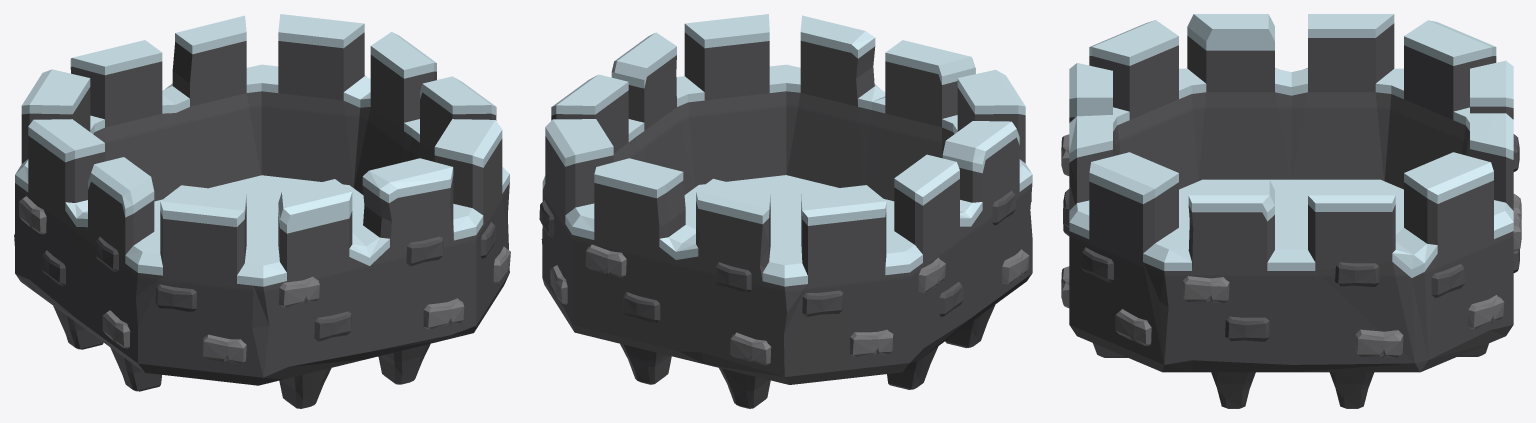
File: SM_Bld_Castle_Tower_Top_01_Snow.gltf
The picture shows the model from 3 angles, left to right: view 1: azimuth 30°, elevation 25°; view 2: azimuth 150°, elevation 25°; view 3: azimuth 270°, elevation 25°; orthographic projection. The views are drawn at different scales.
Parts seen in each view (by area): view 1: SM_Bld_Castle_Tower_Top_01_Snow; view 2: SM_Bld_Castle_Tower_Top_01_Snow; view 3: SM_Bld_Castle_Tower_Top_01_Snow.
Boxes of the visible parts, left/top/right/bottom form: SM_Bld_Castle_Tower_Top_01_Snow: left=14, top=14, right=510, bottom=408; SM_Bld_Castle_Tower_Top_01_Snow: left=539, top=14, right=1032, bottom=408; SM_Bld_Castle_Tower_Top_01_Snow: left=1061, top=14, right=1521, bottom=408.
Bounding box in the file's own units: 3.18 × 1.71 × 3.18.
Materials: 1 (1 with a texture image).
